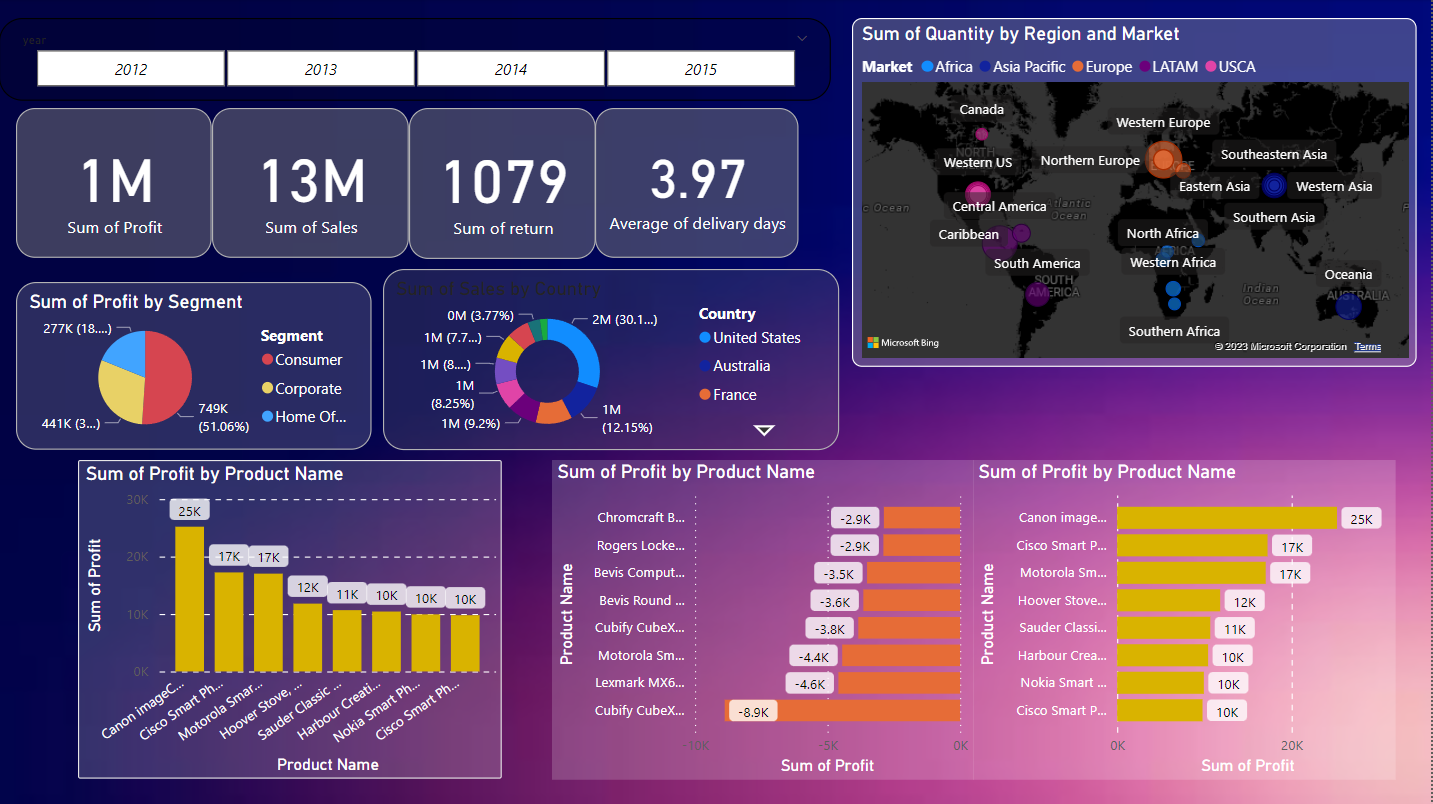

The dashboard page shown, as its layout file describes it:
{"tool":"powerbi","page":{"name":"Page 1","canvas":[1280,720],"ordinal":0},"visuals":[{"type":"card","fields":{"Values":["Sum(Orders (2).Profit)"]},"box":[15.2,97.5,175.3,134.2],"z":0},{"type":"card","fields":{"Values":["Avg(Orders (2).delivary days)"]},"box":[533.1,97.5,181.6,134.2],"z":1000},{"type":"card","fields":{"Values":["Sum(Returns (2).return)"]},"box":[366.5,97.5,166.7,134.5],"z":2000},{"type":"card","fields":{"Values":["Sum(Orders (2).Sales)"]},"box":[190.3,97.7,176,134.2],"z":3000},{"type":"slicer","fields":{"Values":["Orders (2).year "]},"box":[0,16.6,743.8,74.1],"z":4000},{"type":"map","fields":{"Category":["Orders (2).Region"],"Series":["Orders (2).Market"],"Size":["Sum(Orders (2).Quantity)"]},"box":[763,17,505.1,311.6],"z":5000},{"type":"barChart","fields":{"Y":["Sum(Orders (2).Profit)"],"Category":["Orders (2).Product Name"]},"box":[871.5,412.4,378.2,285.6],"z":6000},{"type":"barChart","fields":{"Y":["Sum(Orders (2).Profit)"],"Category":["Orders (2).Product Name"]},"box":[494.3,412.4,377.3,285.6],"z":7000},{"type":"pieChart","fields":{"Category":["Orders (2).Segment"],"Y":["Sum(Orders (2).Profit)"]},"box":[15.6,253.5,317.8,150.1],"z":8000},{"type":"donutChart","fields":{"Category":["Orders (2).Country"],"Y":["Sum(Orders (2).Sales)"]},"box":[343.9,241.8,408.4,162.1],"z":9000},{"type":"columnChart","fields":{"Category":["Orders (2).Product Name"],"Y":["Sum(Orders (2).Profit)"]},"box":[70.7,412.3,379.2,285.3],"z":10000}]}

Visuals, with their boxes in screenshot pixels (x1, y1, x2, y2), scaled from the page's 1280x720 canvas onto the 1433x804 screenshot:
card - Sum(Orders (2).Profit): <box>17,109,213,259</box>
card - Avg(Orders (2).delivary days): <box>597,109,800,259</box>
card - Sum(Returns (2).return): <box>410,109,597,259</box>
card - Sum(Orders (2).Sales): <box>213,109,410,259</box>
slicer - Orders (2).year : <box>0,19,833,101</box>
map - Orders (2).Region x Orders (2).Market: <box>854,19,1420,367</box>
barChart - Sum(Orders (2).Profit) x Orders (2).Product Name: <box>976,461,1399,779</box>
barChart - Sum(Orders (2).Profit) x Orders (2).Product Name: <box>553,461,976,779</box>
pieChart - Orders (2).Segment x Sum(Orders (2).Profit): <box>17,283,373,451</box>
donutChart - Orders (2).Country x Sum(Orders (2).Sales): <box>385,270,842,451</box>
columnChart - Orders (2).Product Name x Sum(Orders (2).Profit): <box>79,460,504,779</box>
